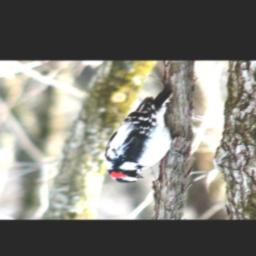Woodpecker: (100, 82, 183, 183)
